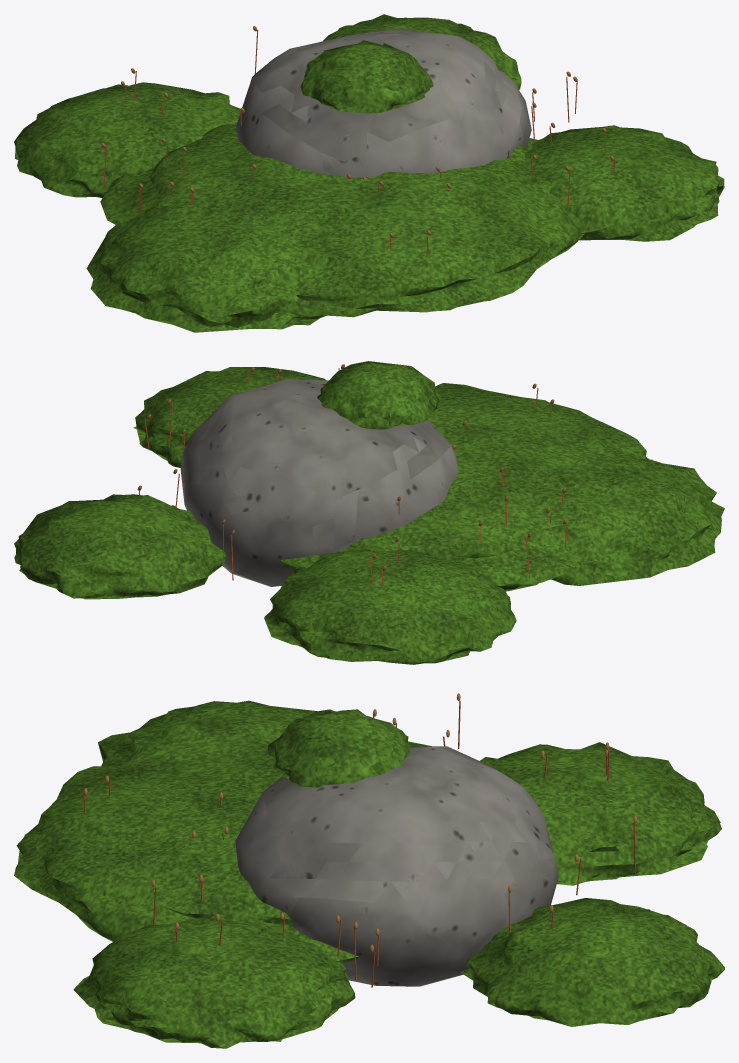
File: moss-patch.glb
3 views of the same model, one above another, from view 1: azimuth 30°, elevation 25°; view 2: azimuth 150°, elevation 25°; view 3: azimuth 270°, elevation 25° (orthographic). The views are drawn at different scales.
Parts seen in each view (by area): view 1: Moss_Patch; view 2: Moss_Patch; view 3: Moss_Patch.
Boxes of the visible parts, x1,y1,x2,y2 form: Moss_Patch: (14,14,724,332); Moss_Patch: (14,361,724,664); Moss_Patch: (14,693,724,1048).
Bounding box in the file's own units: 0.7745 × 0.2156 × 0.7022.
4 materials, 2 textured.
